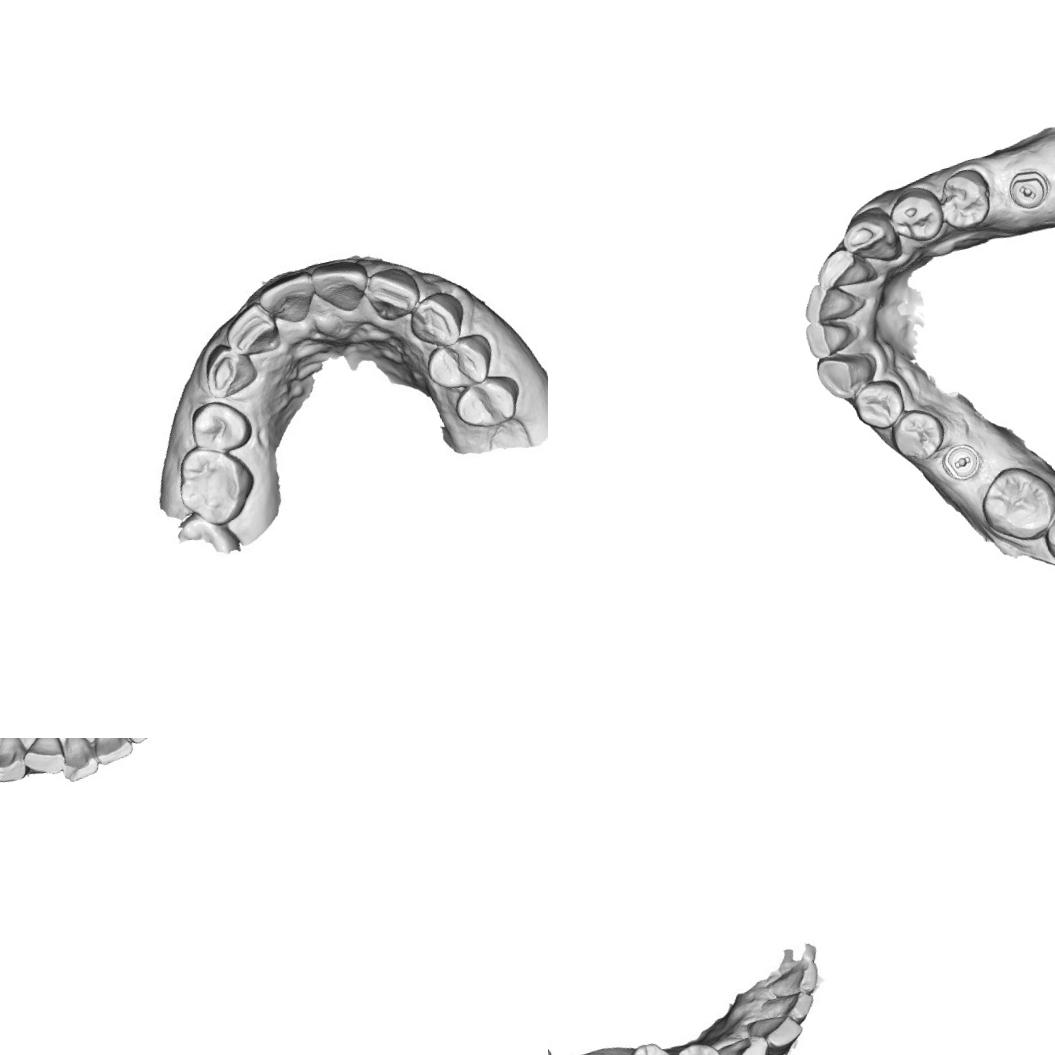canine: (836, 202, 904, 274), (812, 342, 888, 406), (404, 288, 472, 352), (194, 339, 259, 404), (715, 1029, 780, 1055), (0, 738, 30, 789)
implant_minus: (937, 438, 988, 487), (1003, 165, 1052, 216)
incisor: (313, 255, 373, 318), (360, 265, 418, 327), (798, 274, 863, 327), (808, 244, 874, 296), (262, 274, 322, 328), (758, 981, 820, 1031), (802, 312, 860, 364), (229, 302, 280, 361), (762, 958, 824, 1004), (746, 1008, 806, 1055), (53, 738, 101, 784), (17, 738, 68, 780), (87, 738, 136, 767)
molar: (170, 438, 267, 534), (972, 456, 1055, 551), (1034, 487, 1055, 579)
premolar: (416, 328, 504, 396), (930, 163, 999, 236), (884, 400, 954, 468), (882, 182, 950, 250), (451, 372, 524, 434), (846, 374, 912, 436), (190, 396, 254, 453), (614, 1035, 683, 1055), (662, 1036, 730, 1055)
